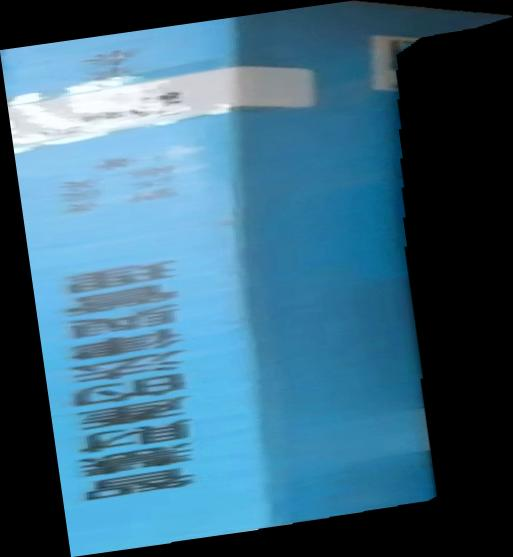reverse: (1, 1, 513, 557)
